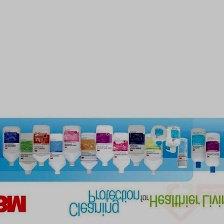cleaning_solution: (141, 131, 165, 176), (124, 123, 147, 168), (0, 124, 22, 167), (17, 131, 38, 176), (61, 124, 82, 168), (78, 130, 98, 175), (94, 123, 114, 167), (47, 131, 67, 175), (31, 123, 51, 167), (111, 131, 131, 174), (202, 131, 222, 172), (188, 127, 207, 169), (163, 122, 182, 154), (148, 123, 169, 148), (175, 136, 189, 169)
